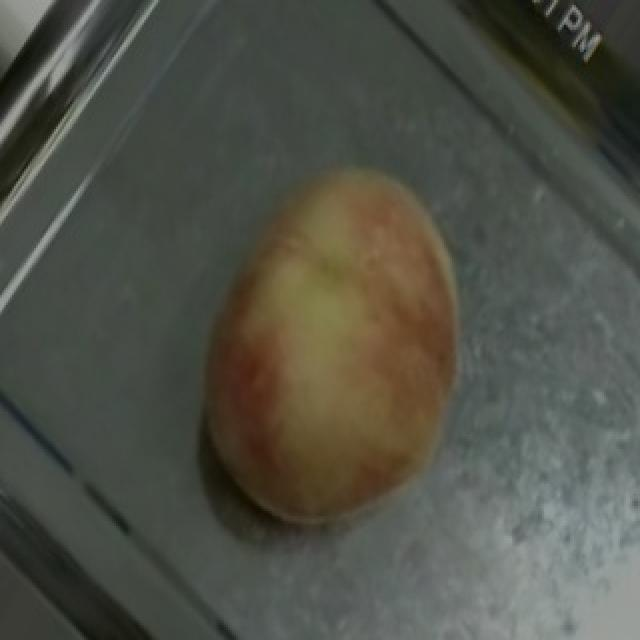Fruit: (186, 121, 512, 452)
